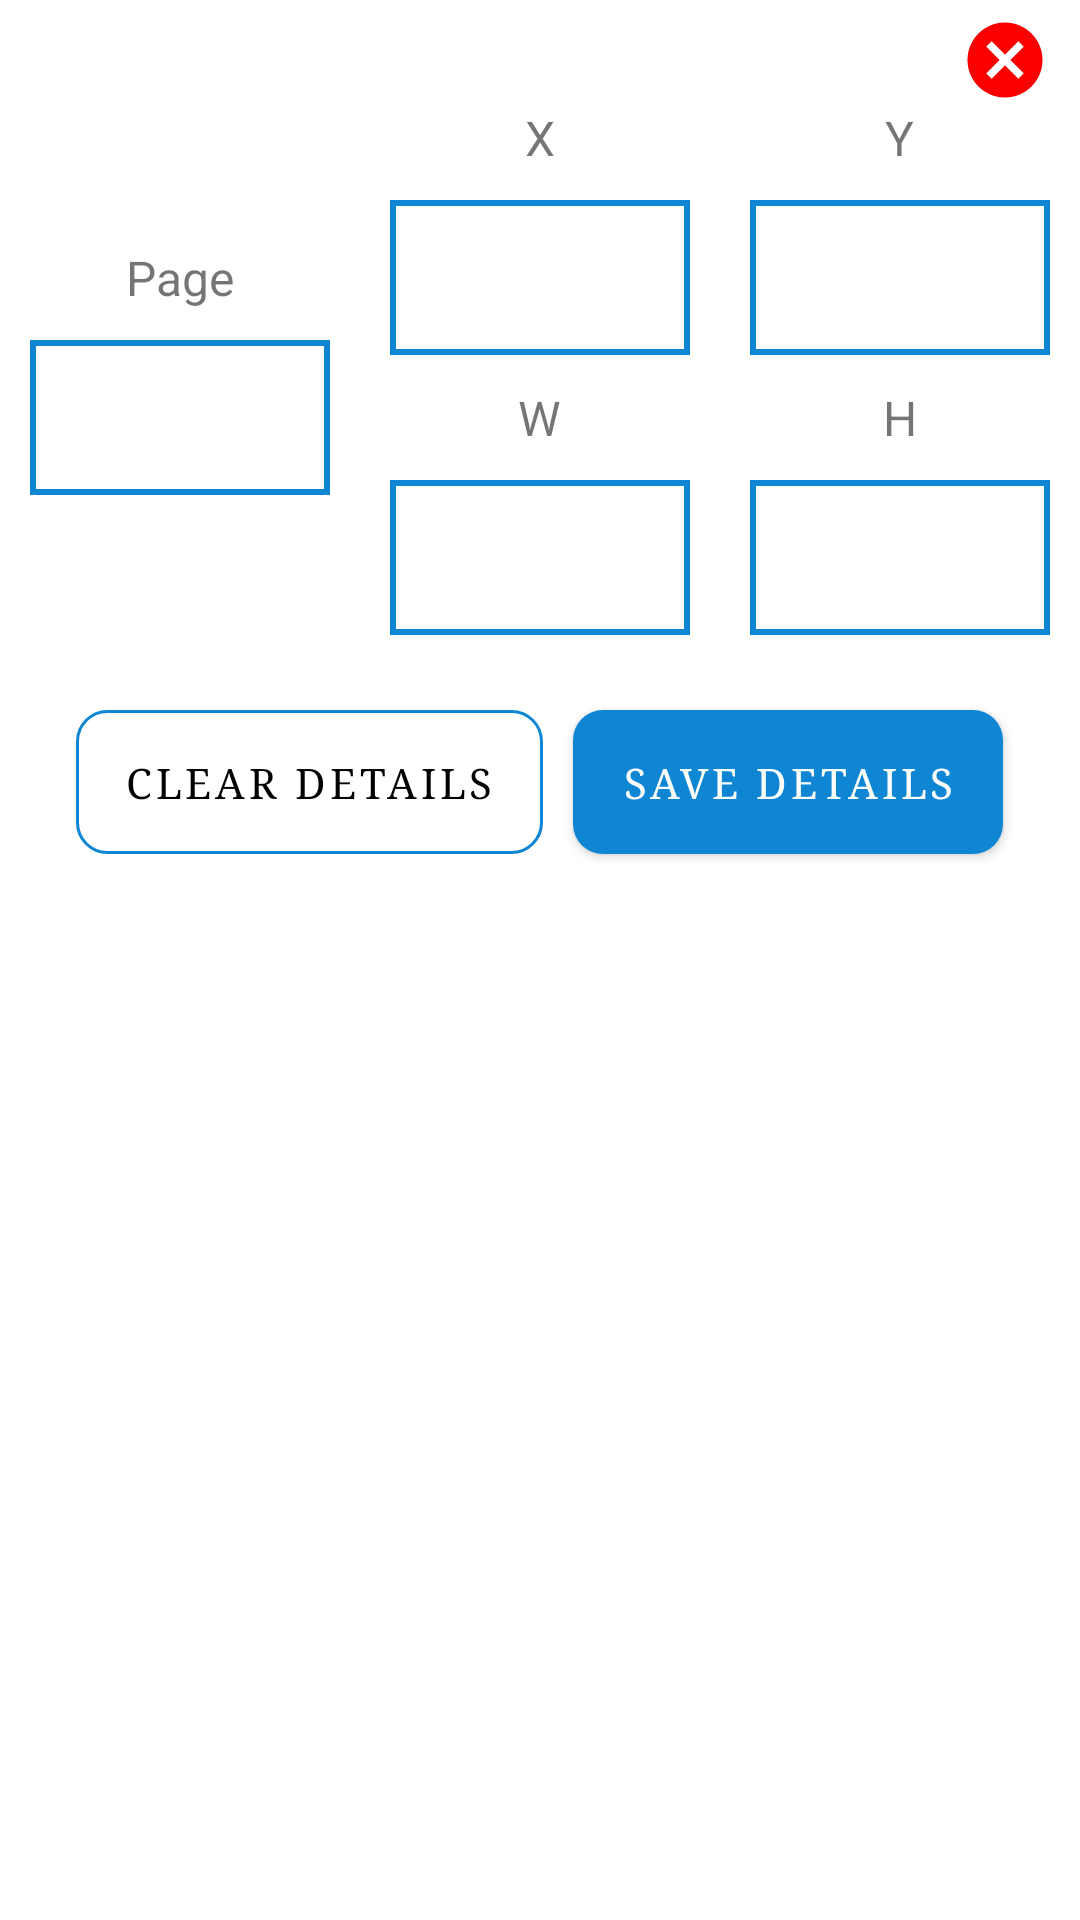

Point at icon controls on the screen. Image size 1080 × 1920, points as point (x, y).
cancel: point (1005, 60)
